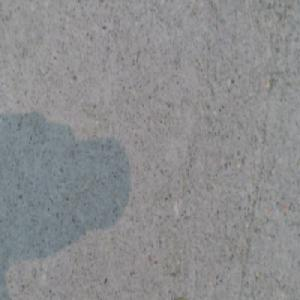Washer: (171, 286, 196, 300)
